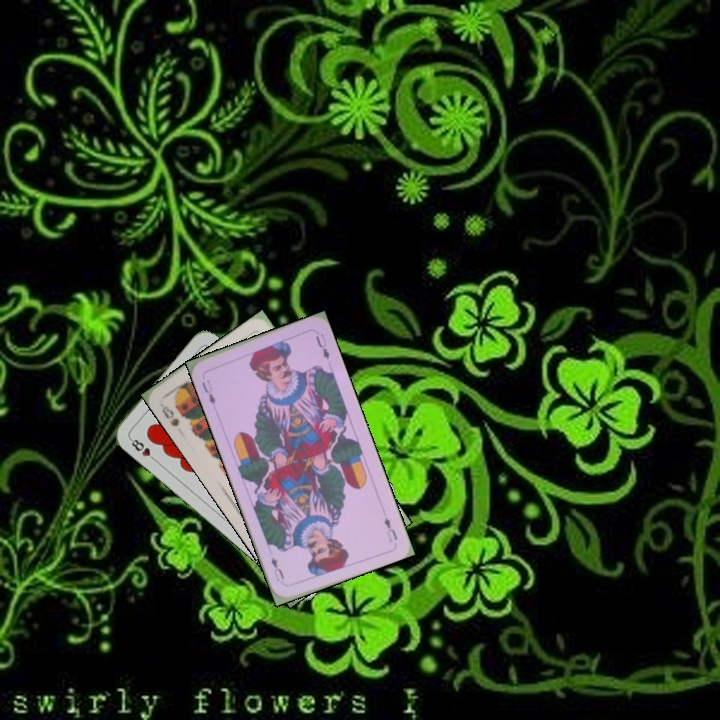EU: (198, 371, 218, 407), (380, 514, 400, 545)
H8: (126, 434, 160, 464)
S8: (156, 399, 182, 429)
